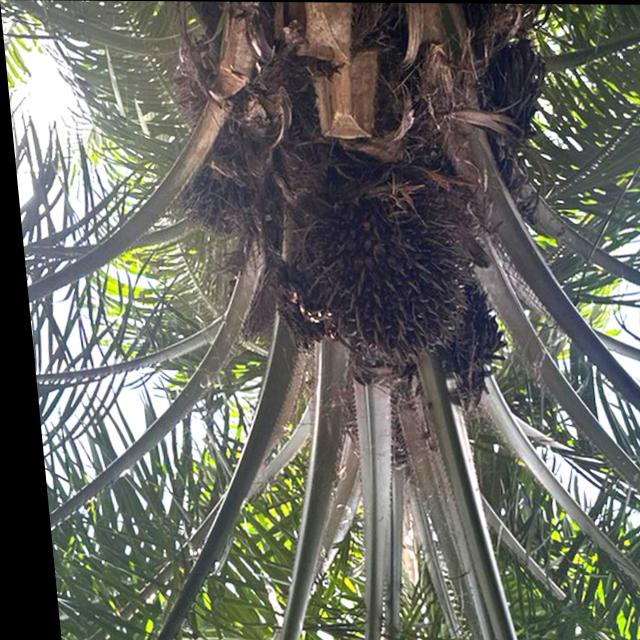ripe: (301, 174, 465, 368)
